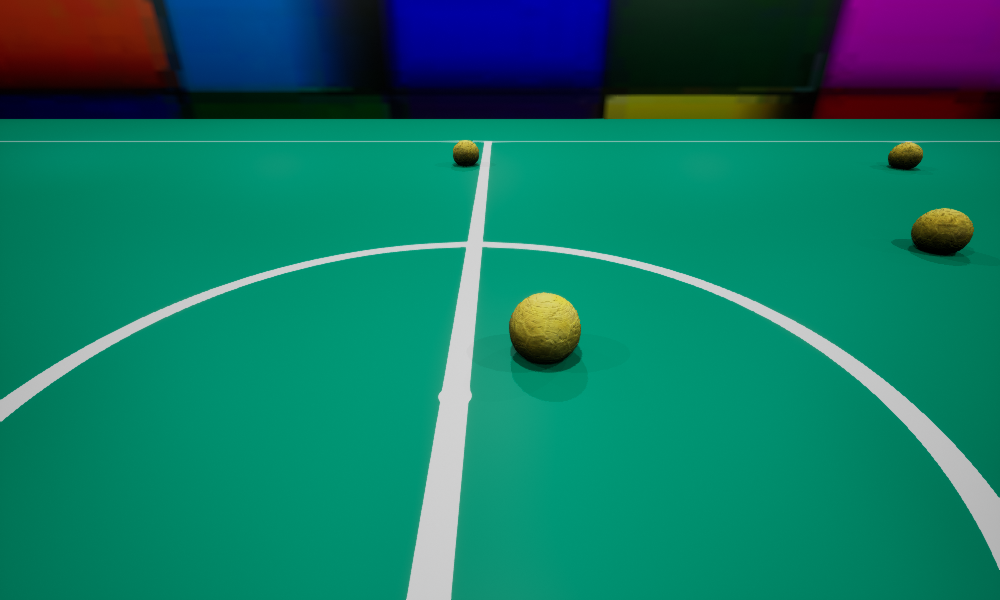b: (509, 292, 580, 363), (911, 208, 973, 253), (888, 142, 922, 168), (453, 140, 478, 165)
